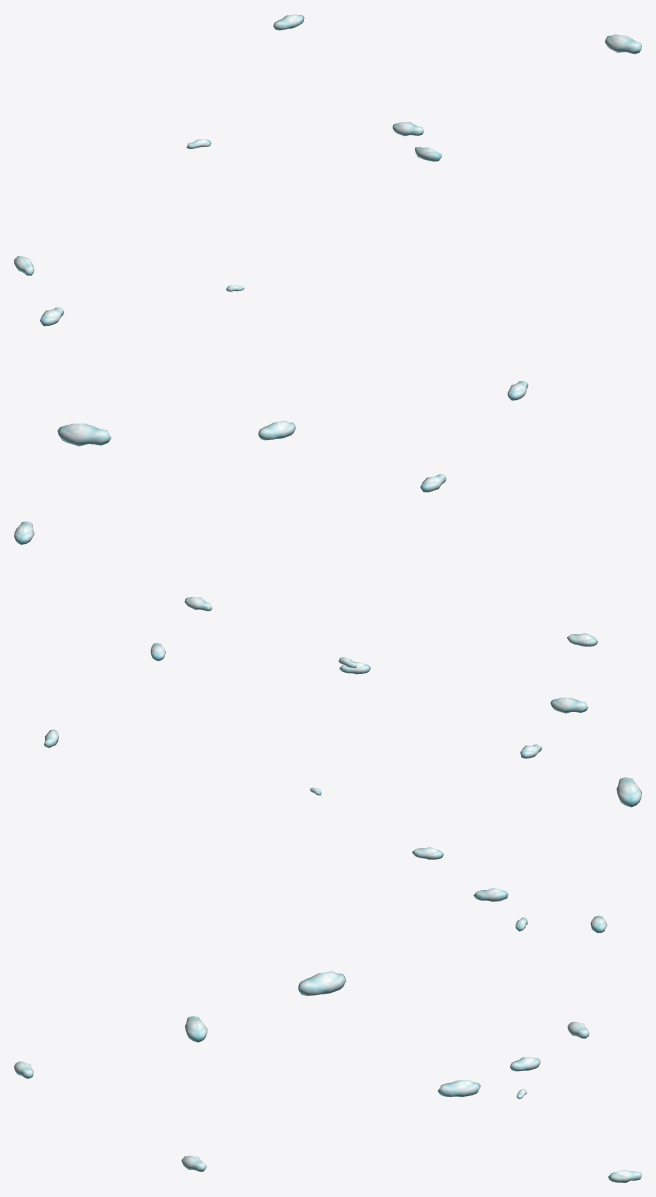
File: OutdoorM_cloud.FBX
3 views of the same model, one above another, from view 1: azimuth 30°, elevation 25°; view 2: azimuth 150°, elevation 25°; view 3: azimuth 270°, elevation 25° (orthographic). The views are drawn at different scales.
Parts seen in each view (by area): view 1: OutdoorM_cloud; view 2: OutdoorM_cloud; view 3: OutdoorM_cloud.
Boxes of the visible parts, <box> form: OutdoorM_cloud: <box>14,14,641,492</box>; OutdoorM_cloud: <box>14,521,641,859</box>; OutdoorM_cloud: <box>14,888,641,1182</box>.
Bounding box in the file's own units: 1361740 × 499757 × 1161680.
